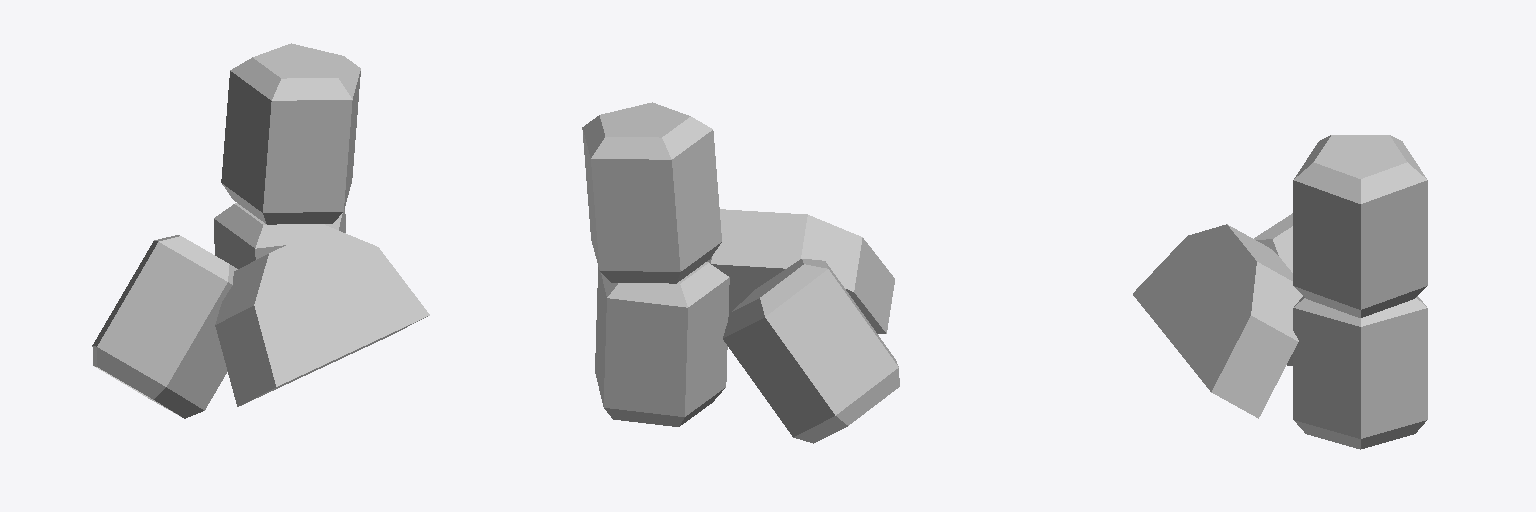
The model's file is groundPatchTemple_prefab.obj.
3 views of the same model, side by side, from view 1: azimuth 30°, elevation 25°; view 2: azimuth 150°, elevation 25°; view 3: azimuth 270°, elevation 25° (orthographic).
Parts seen in each view (by area): view 1: Object96-Pivot; view 2: Object96-Pivot; view 3: Object96-Pivot.
Part boxes in pixels (x1,y1,x2,y2): Object96-Pivot: (92,43,429,418); Object96-Pivot: (582,102,899,443); Object96-Pivot: (1133,135,1427,449).
Size of the model in its own units: 53.03 by 50.9 by 46.67.